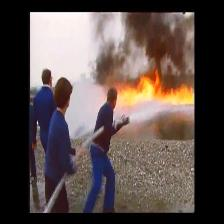fire: (124, 80, 197, 104)
smoke: (124, 16, 194, 69)
